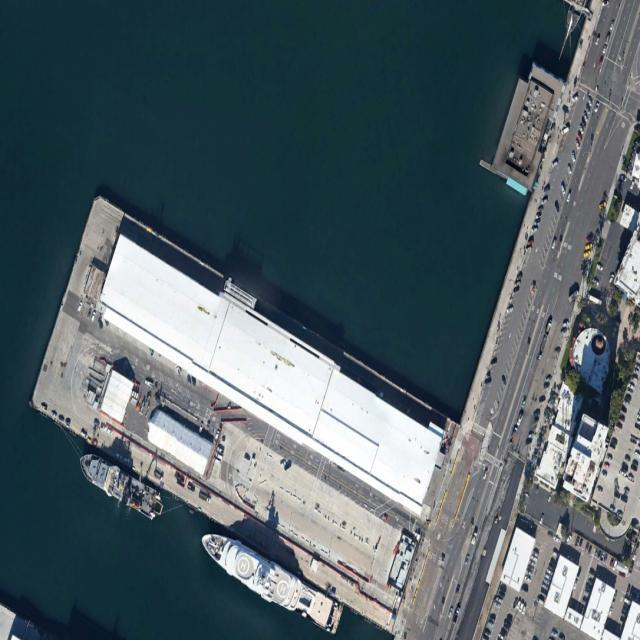Other Ship: (75, 444, 167, 524)
Yacht: (196, 517, 344, 640)
